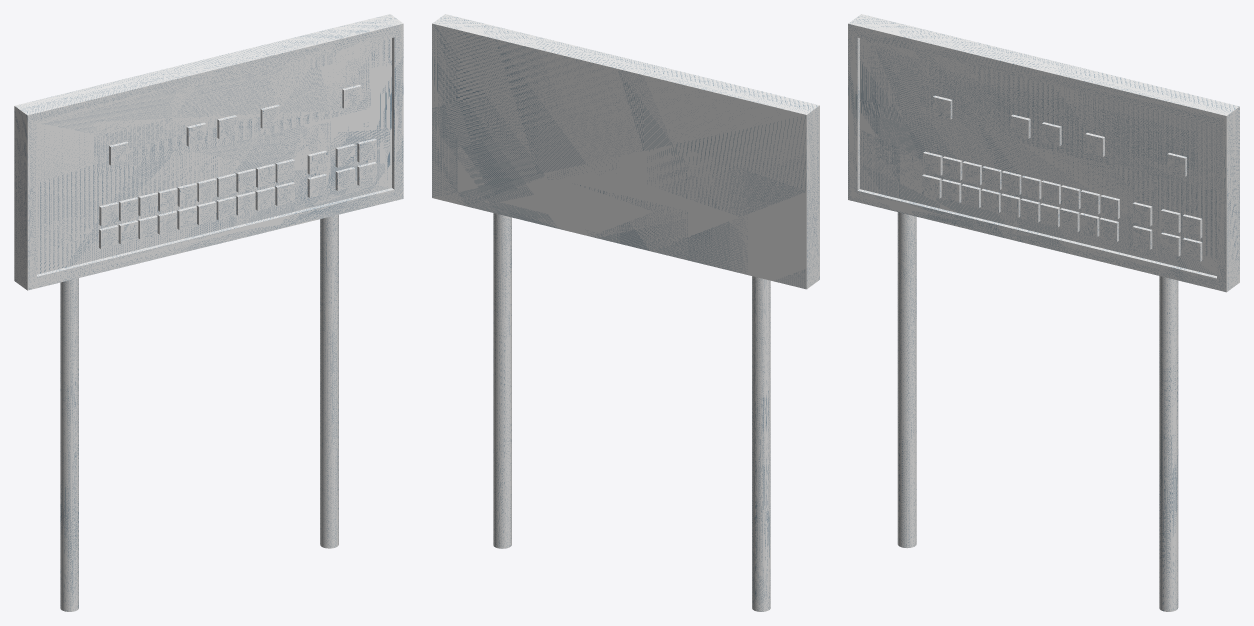
The model's file is Scoreboard.dae.
3 renders of one model, left to right at view 1: azimuth 30°, elevation 25°; view 2: azimuth 150°, elevation 25°; view 3: azimuth 330°, elevation 25°, orthographic.
Parts seen in each view (by area): view 1: group_14 (×2), group_13, POLE-BASEBALL_SCORE (×2), group_9; view 2: group_14, POLE-BASEBALL_SCORE (×2); view 3: group_14 (×2), POLE-BASEBALL_SCORE (×2), group_13, group_9.
Part boxes in pixels (bbox=[...]): group_14 (×2): bbox=[14, 14, 403, 290]; group_13: bbox=[93, 55, 370, 175]; POLE-BASEBALL_SCORE (×2): bbox=[60, 214, 338, 611]; group_9: bbox=[300, 121, 330, 204]; group_14: bbox=[432, 14, 819, 289]; POLE-BASEBALL_SCORE (×2): bbox=[493, 213, 770, 611]; group_14 (×2): bbox=[848, 14, 1239, 292]; POLE-BASEBALL_SCORE (×2): bbox=[897, 212, 1178, 611]; group_13: bbox=[919, 64, 1197, 186]; group_9: bbox=[1127, 172, 1157, 256].
Bounding box in the file's own units: 227 × 13.78 × 294.
